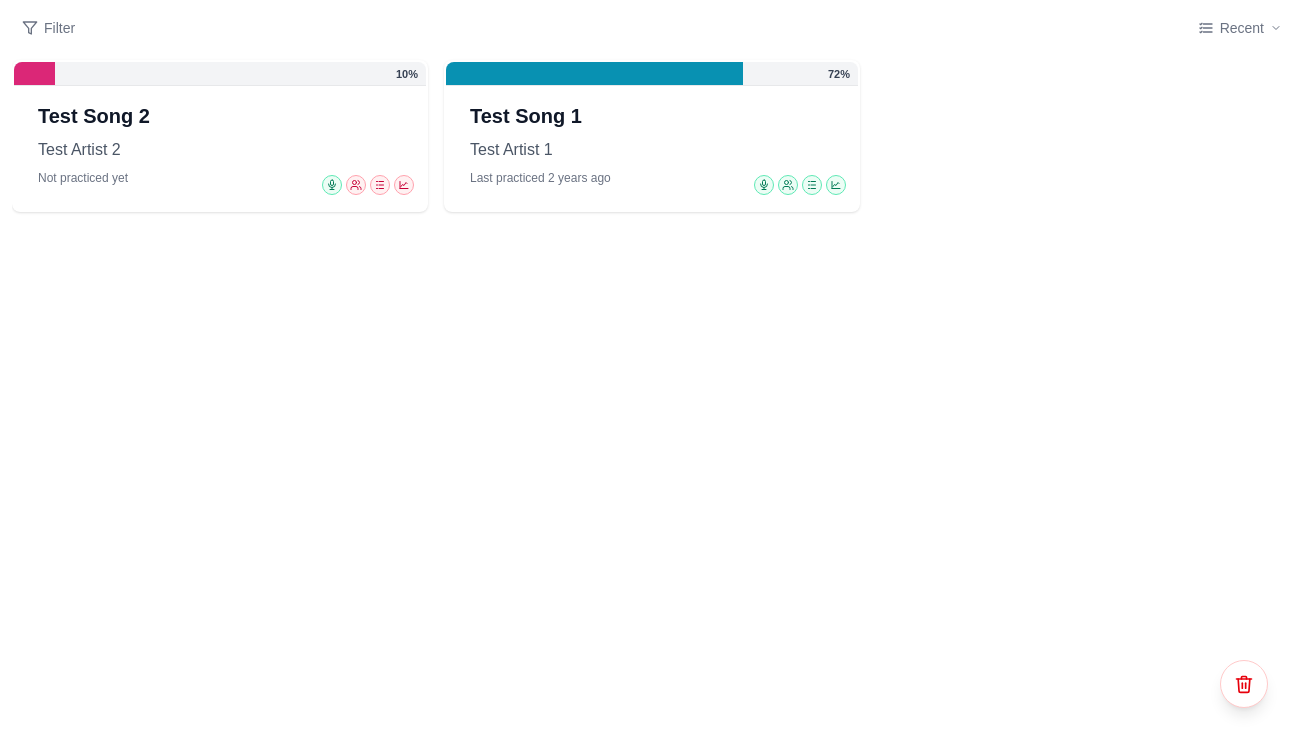
Test: SongBrowser › filters songs by title substring
The width and height of the screenshot is (1304, 732).
expect the element with test id "song-browser-grid" is shown: met, box [12,60,860,212]
Step 1. Click the button with test id "song-browser-filter-toggle" → [49, 28], box [12,12,85,44]
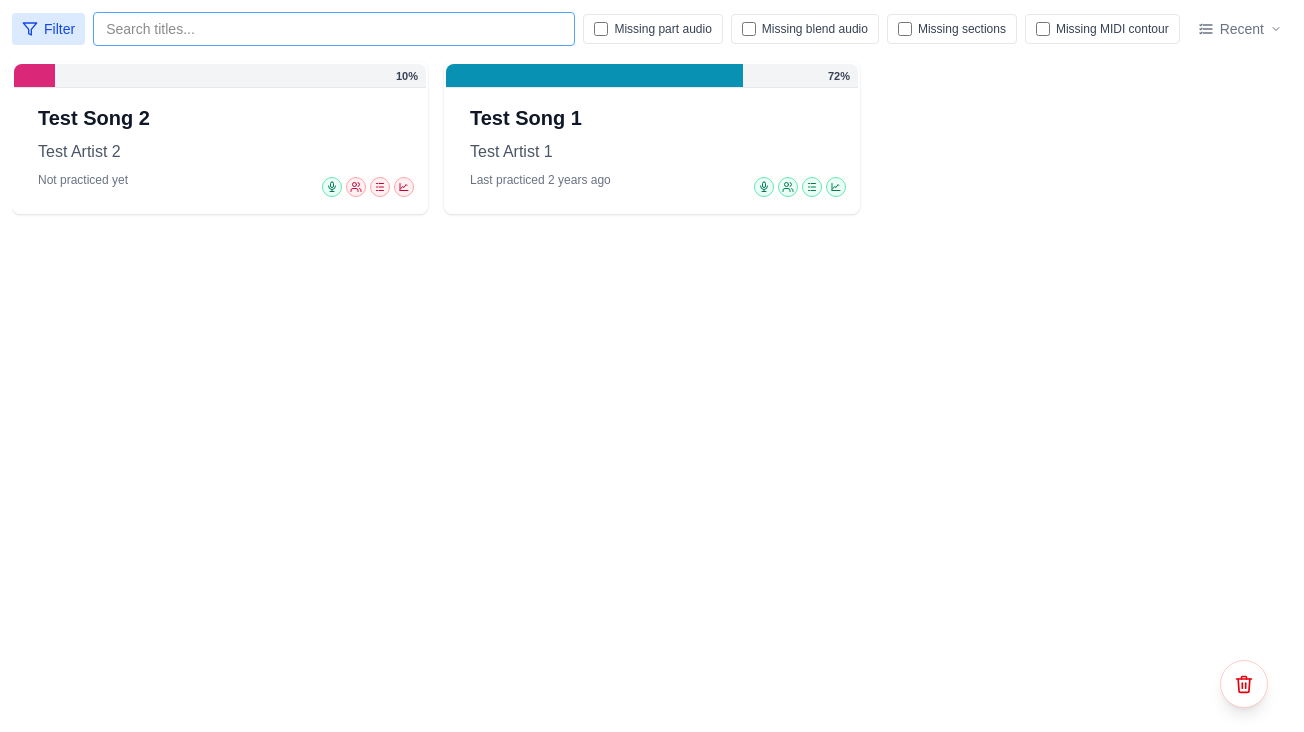
Step 2. Type "Song 1" into the field with test id "song-browser-filter-input" → [334, 29], box [93,12,575,46]
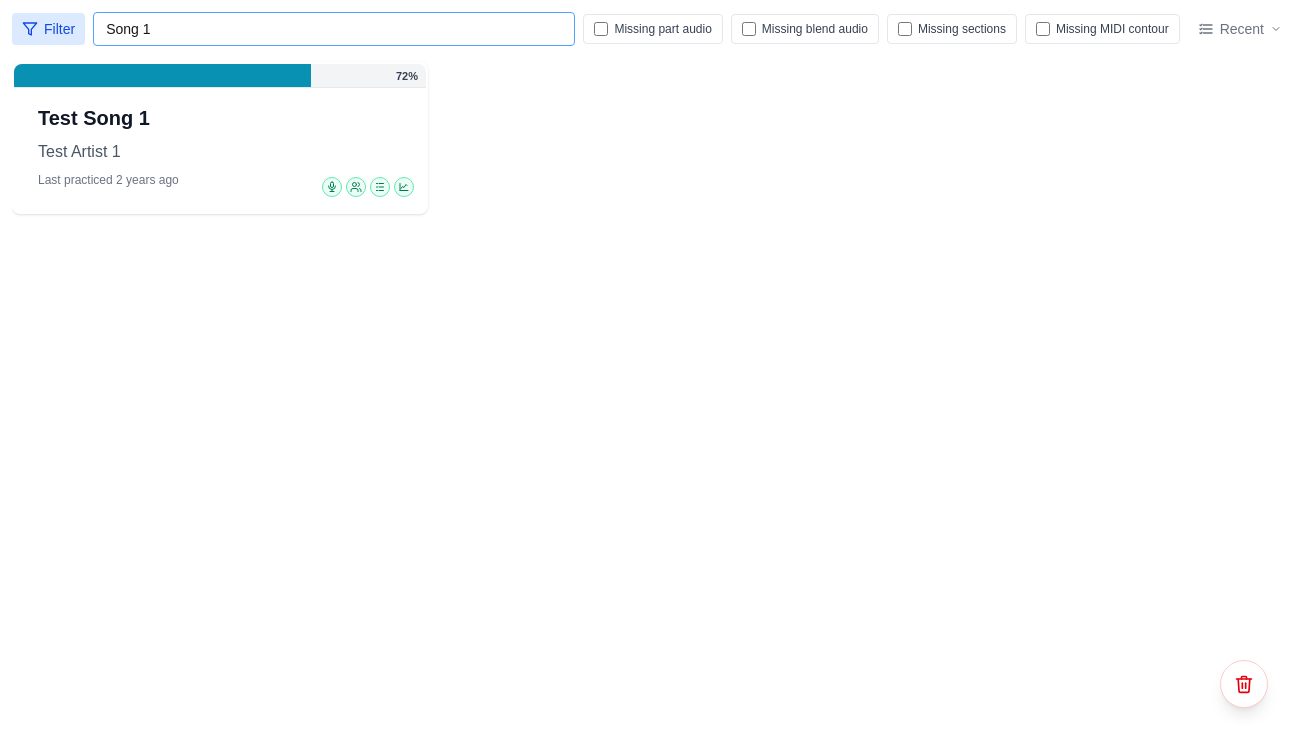
expect the element with test id "song-item-song-1" is shown: met, box [12,62,428,214]
expect the element with test id "song-item-song-2" is gone: met
